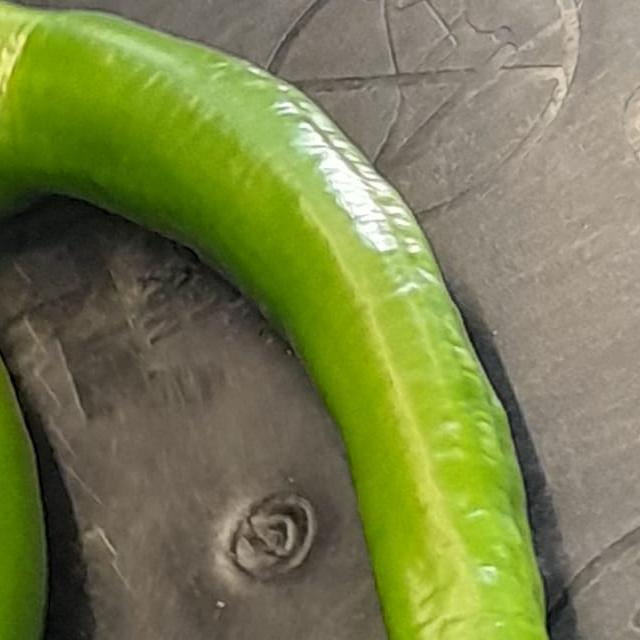chili_pepper: (0, 0, 596, 640), (0, 179, 273, 640)
